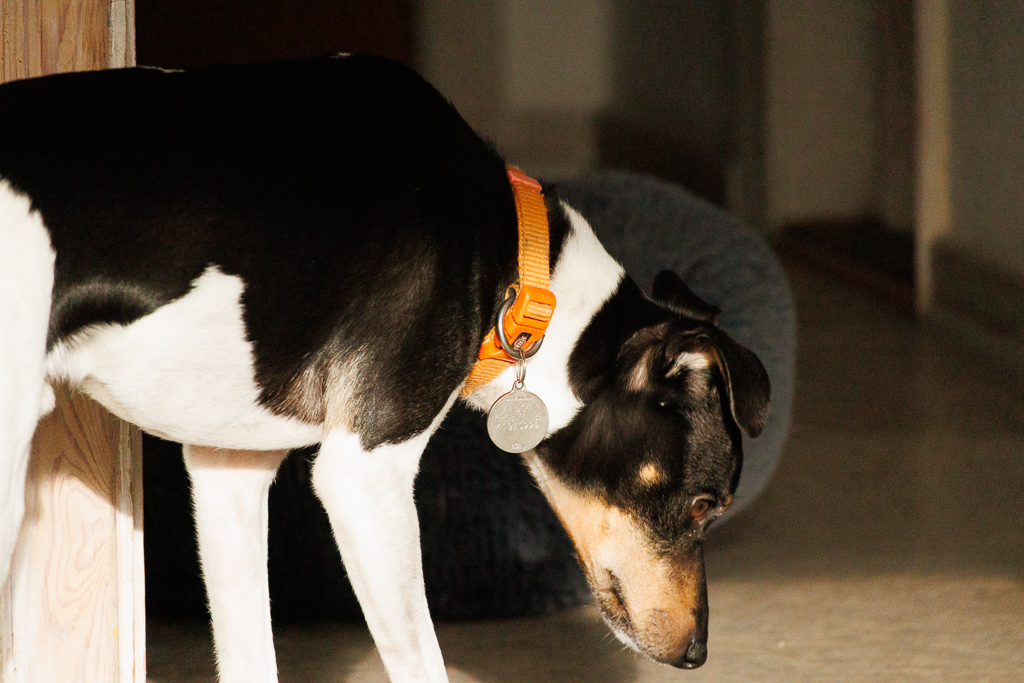Dog: (0, 39, 781, 683)
